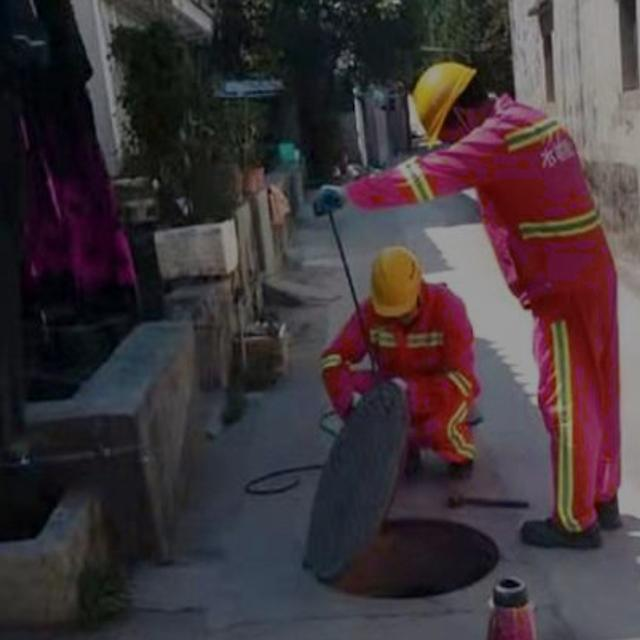uncovered: (278, 385, 510, 614)
